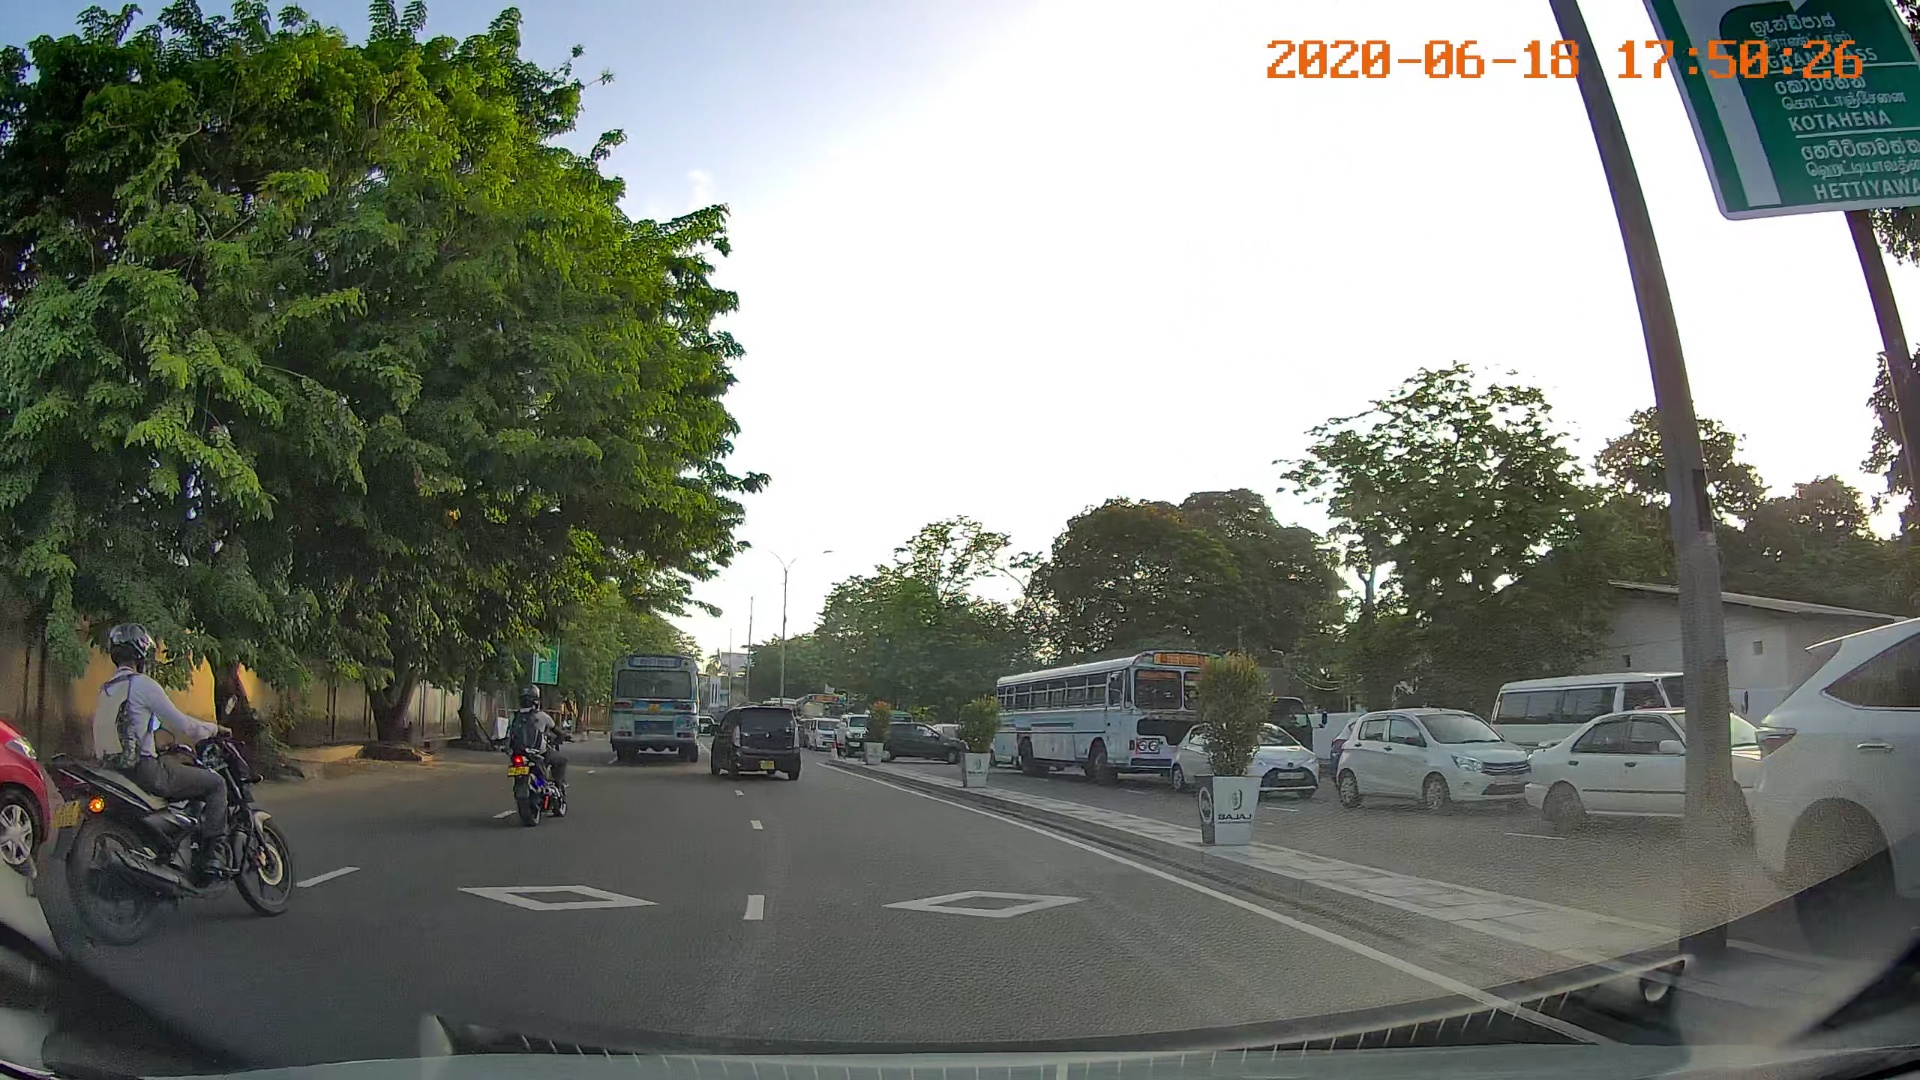diamond: (454, 864, 669, 934), (872, 880, 1092, 927)
